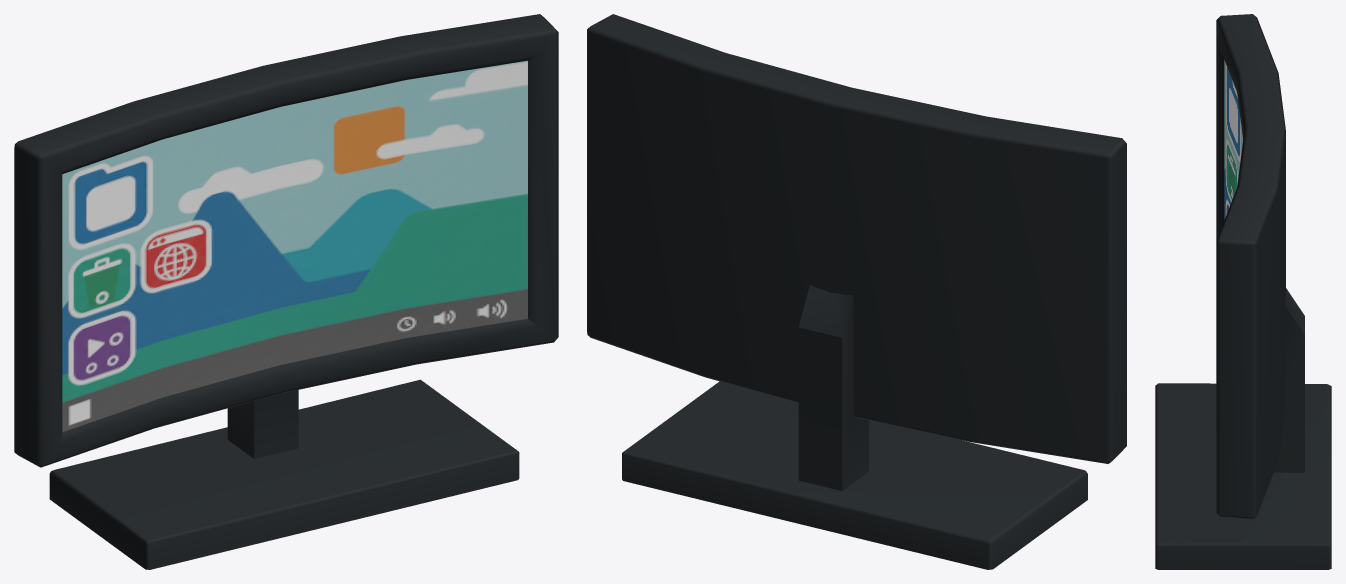
The model's file is Monitor_02.obj.
3 renders of one model, left to right at view 1: azimuth 30°, elevation 25°; view 2: azimuth 150°, elevation 25°; view 3: azimuth 270°, elevation 25°, orthographic. The views are drawn at different scales.
Visible parts, largest first — view 1: Monitor_02; view 2: Monitor_02; view 3: Monitor_02.
Part boxes in pixels (x1,y1,x2,y2): Monitor_02: (14, 14, 558, 569); Monitor_02: (587, 14, 1126, 569); Monitor_02: (1155, 14, 1331, 569).
Bounding box in the file's own units: 0.7096 × 0.5208 × 0.2299.
Materials: 2 (2 with a texture image).
